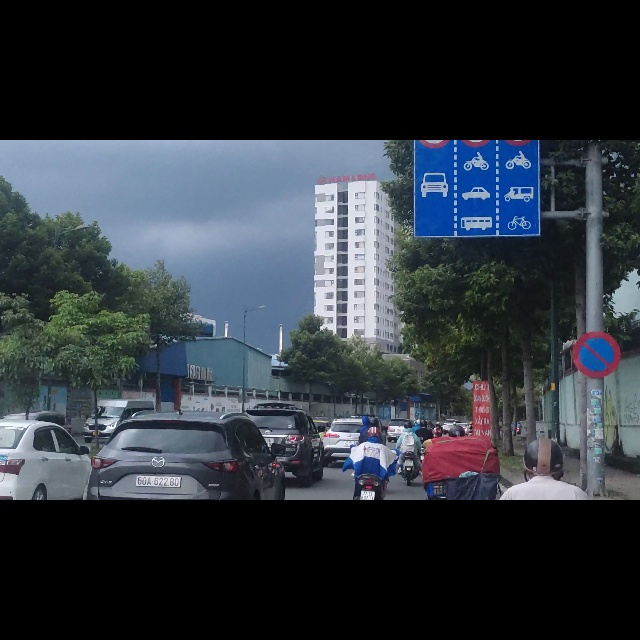bien_chi_dan: (412, 4, 539, 169), (572, 341, 620, 423)
